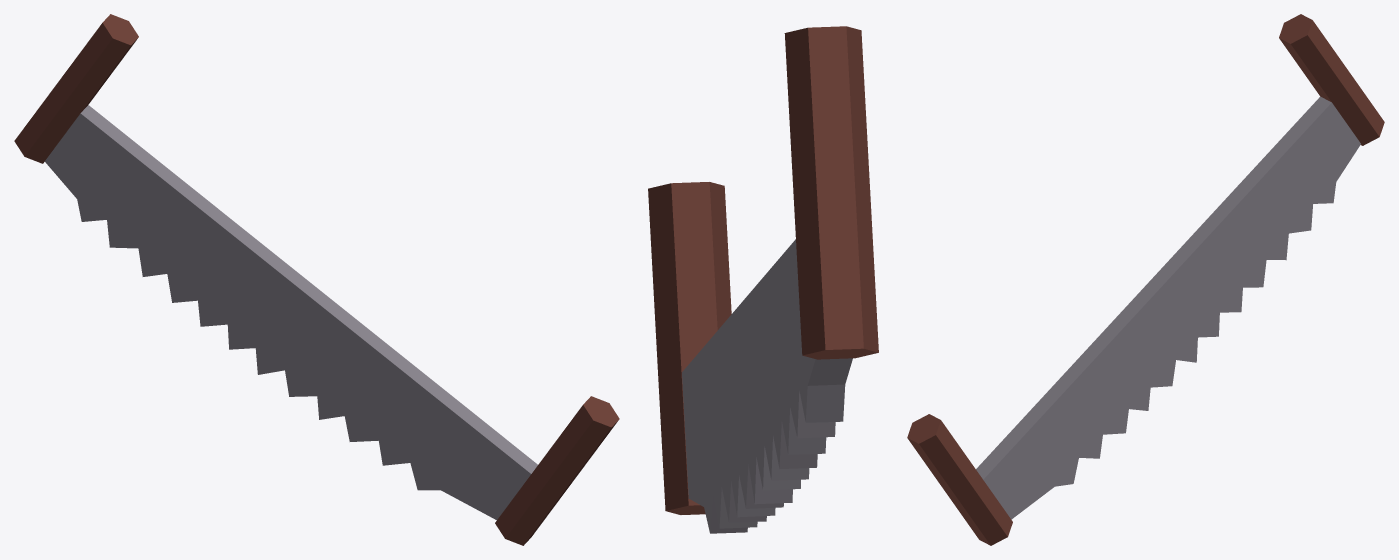
The model's file is saw_LOW.fbx.
The picture shows the model from 3 angles, left to right: view 1: azimuth 30°, elevation 25°; view 2: azimuth 150°, elevation 25°; view 3: azimuth 270°, elevation 25°; orthographic projection. The views are drawn at different scales.
Visible parts, largest first — view 1: saw.001; view 2: saw.001; view 3: saw.001.
Boxes of the visible parts, left/top/right/bottom form: saw.001: left=14, top=14, right=619, bottom=545; saw.001: left=648, top=26, right=878, bottom=533; saw.001: left=907, top=14, right=1384, bottom=545.
Size of the model in its own units: 81.55 by 99.17 by 103.
